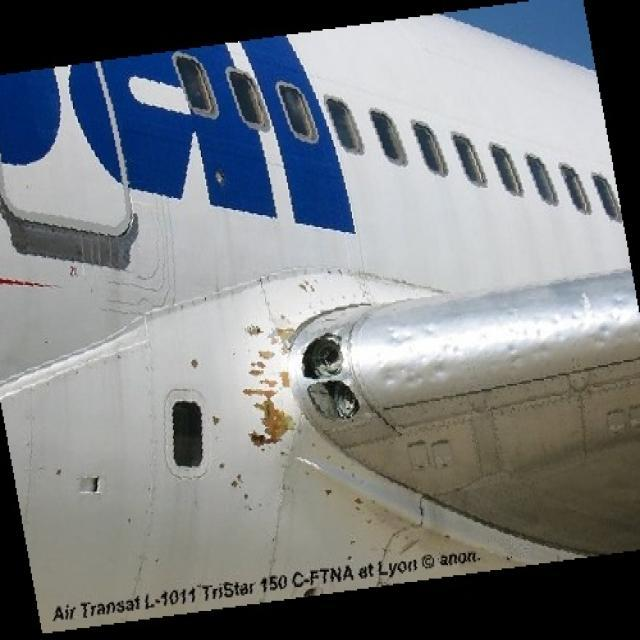dent: (378, 294, 640, 396)
